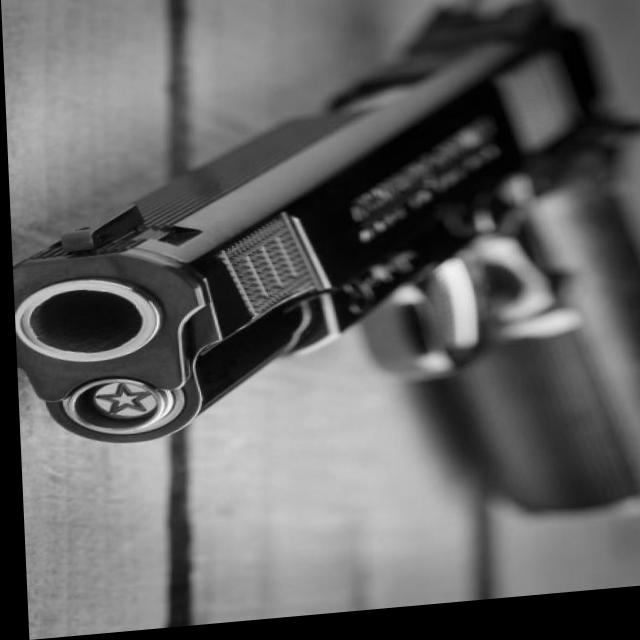handgun: (3, 0, 640, 572)
